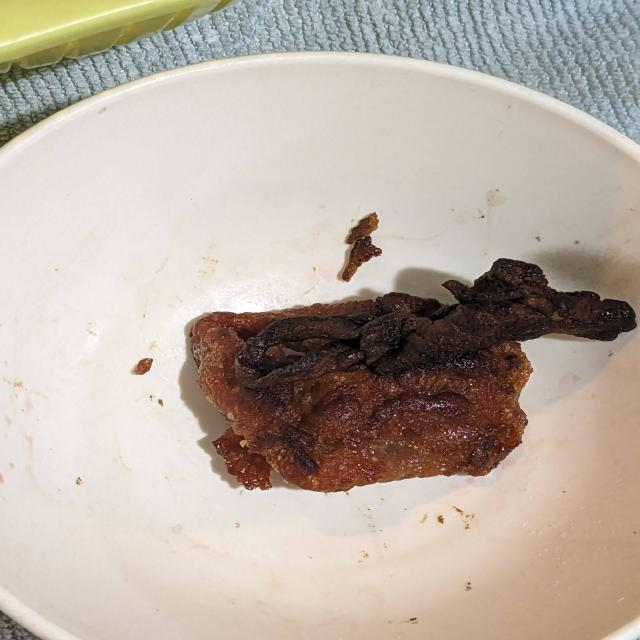overcooked pork: (182, 255, 640, 512)
